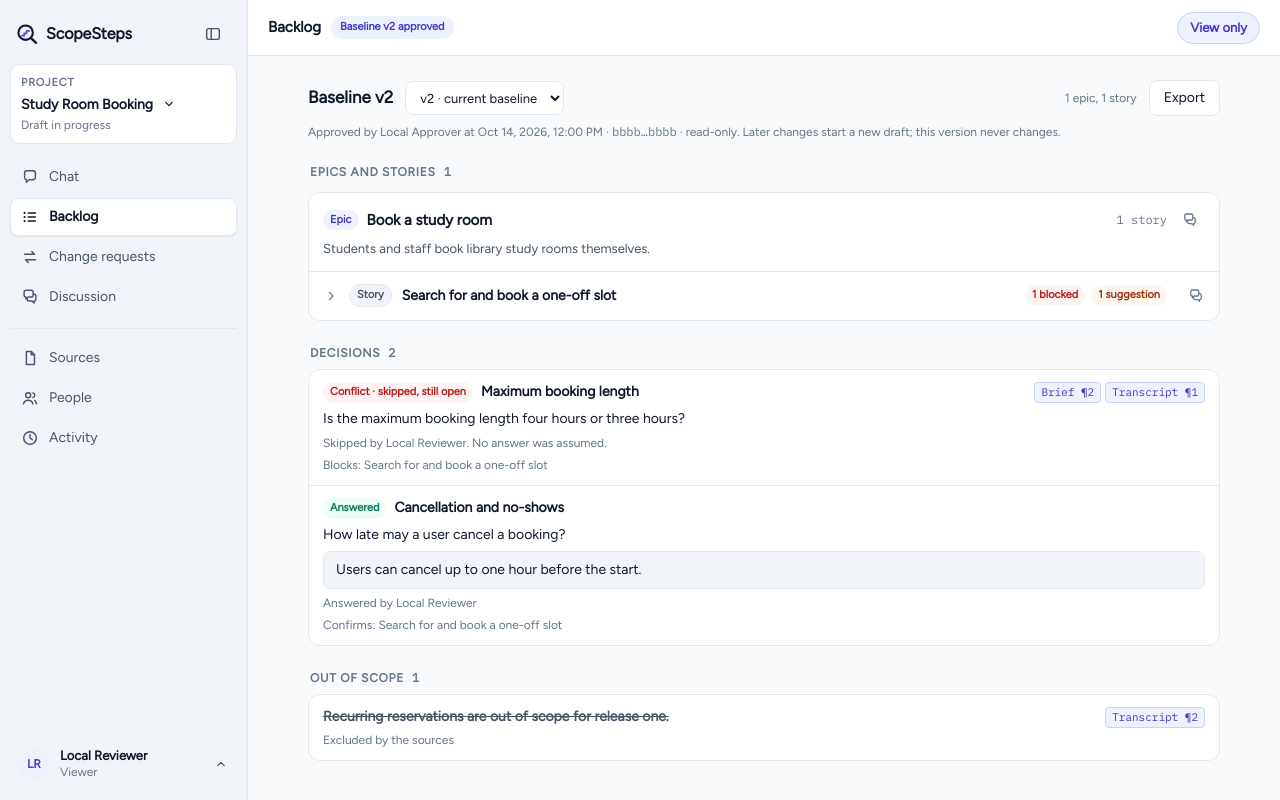
Test case: Backlog version history › lists every version from the API, newest first, and keeps the chosen one in the URL
Expected: the heading "Baseline v2" is shown, [308, 85, 393, 111]
Select "v1" in the dropdown named "Version" at (485, 98), box [405, 81, 564, 115]
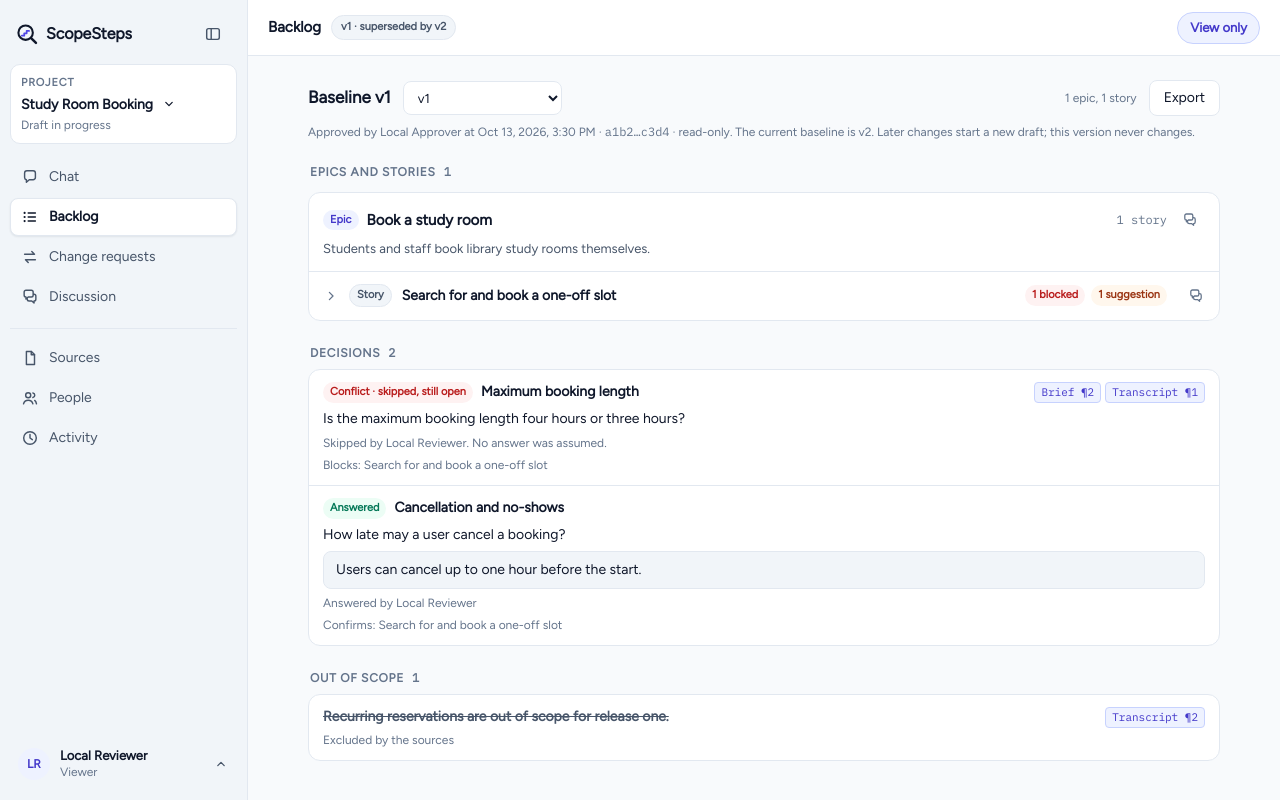
Expected: the heading "Baseline v1" is shown, [308, 85, 391, 111]
Expected: the dropdown named "Version" shows "v1", [403, 81, 562, 115]
